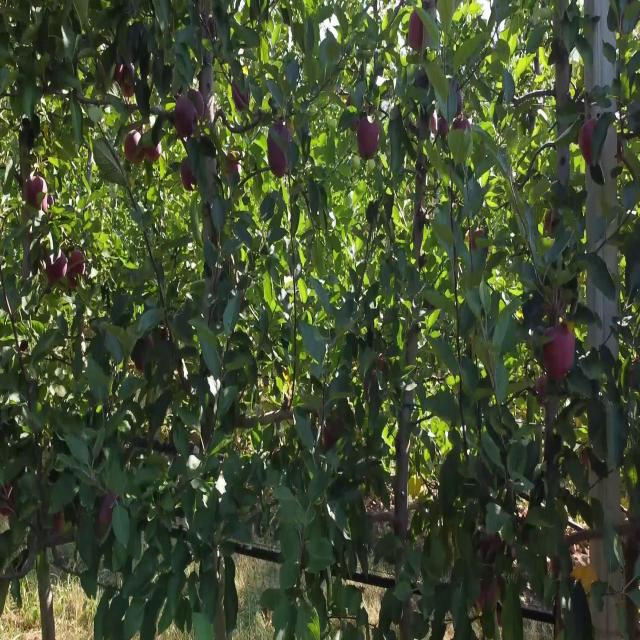apple: (544, 327, 576, 382), (580, 540, 607, 596), (268, 120, 292, 178), (176, 92, 199, 140), (268, 120, 292, 162), (356, 127, 380, 164), (44, 248, 67, 286), (476, 583, 500, 619), (356, 120, 380, 155), (580, 120, 597, 169), (124, 127, 144, 167), (584, 554, 603, 596), (116, 63, 137, 100), (24, 177, 47, 210), (68, 255, 86, 292), (188, 85, 206, 121), (408, 14, 425, 52), (100, 490, 117, 528), (136, 341, 155, 375), (68, 248, 87, 281), (324, 419, 341, 452), (232, 85, 251, 114), (572, 547, 586, 583), (144, 135, 161, 164), (432, 113, 449, 139), (4, 483, 16, 519), (224, 156, 240, 183), (536, 376, 548, 407), (272, 156, 288, 178), (184, 163, 196, 192), (52, 511, 64, 535), (136, 348, 145, 375), (544, 213, 554, 236), (44, 199, 55, 219), (584, 455, 591, 469), (380, 355, 386, 370)
